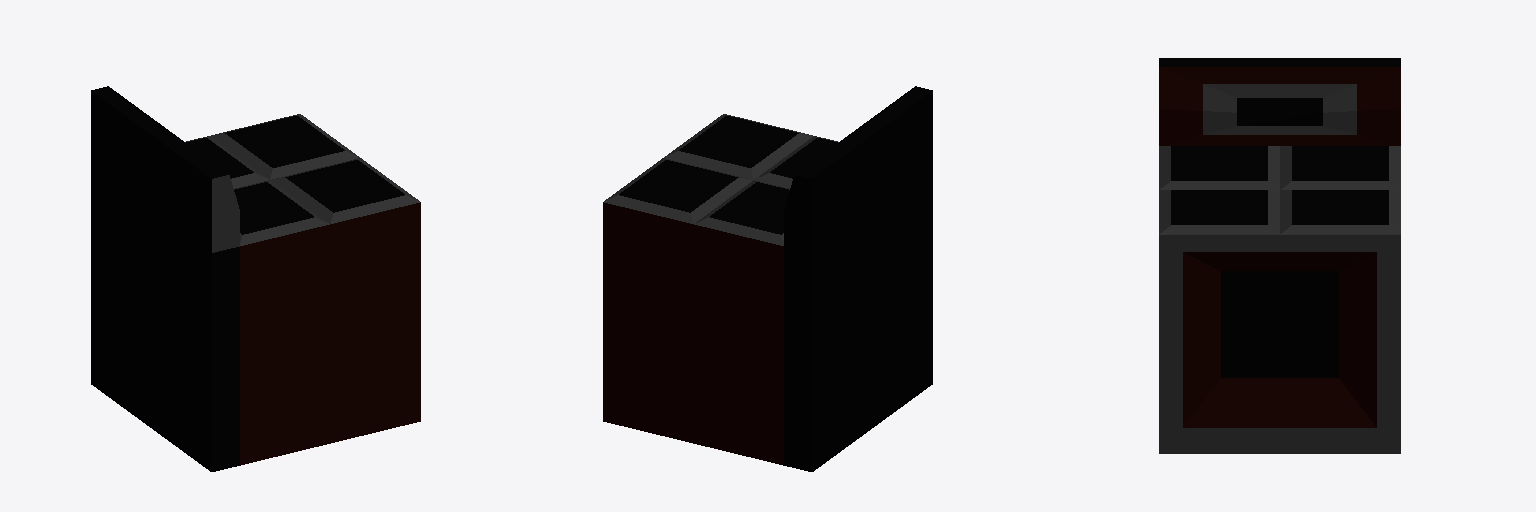
The model's file is oven.obj.
3 views of the same model, side by side, from view 1: azimuth 30°, elevation 25°; view 2: azimuth 150°, elevation 25°; view 3: azimuth 270°, elevation 25° (orthographic).
Parts seen in each view (by area): view 1: Cube; view 2: Cube; view 3: Cube.
Boxes of the visible parts, <box> form: Cube: <box>91,86,420,471</box>; Cube: <box>603,86,932,471</box>; Cube: <box>1159,58,1400,453</box>.
Bounding box in the file's own units: 2 × 2.68 × 2.